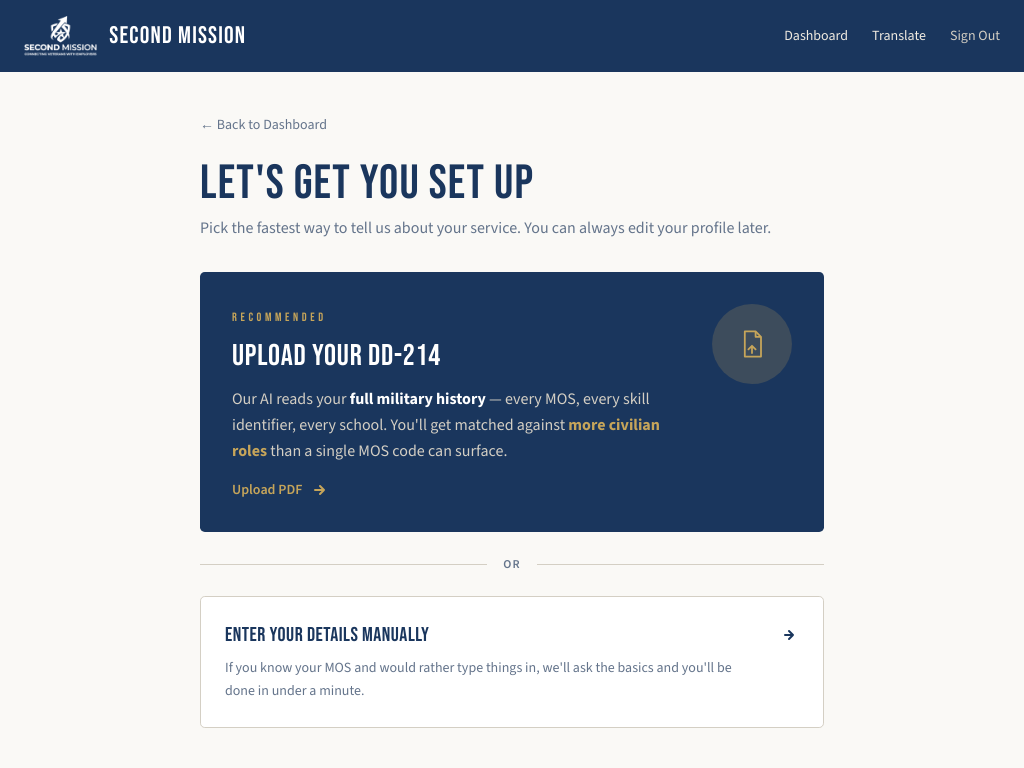
ProfilePage › goes to the manual form when the secondary card is clicked
This screenshot has width=1024, height=768.
Click the button "ENTER YOUR DETAILS MANUALLY": click(512, 662) [200,596,824,728]
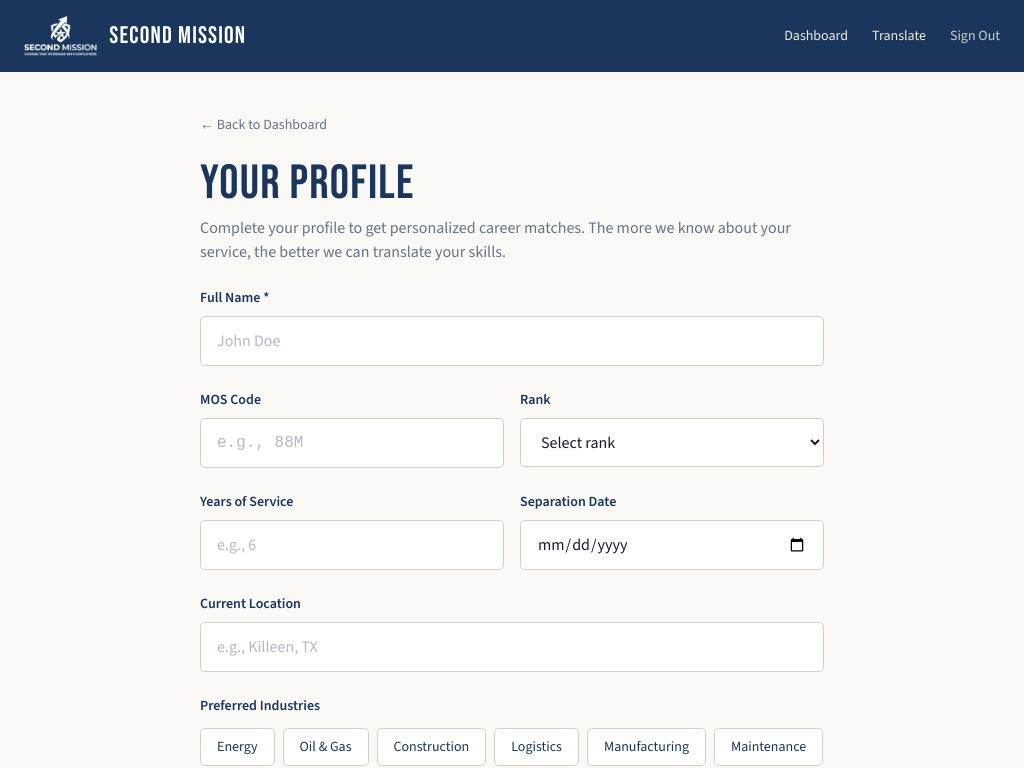
Now the heading "YOUR PROFILE" is shown, box [200,155,415,212]
Now the field labelled "Full Name *" is empty, box [200,316,824,366]
